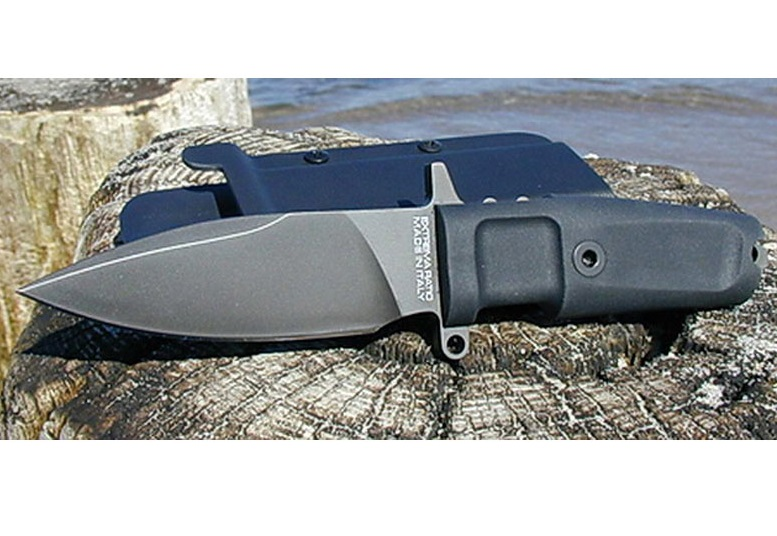knife: (1, 191, 425, 355)
